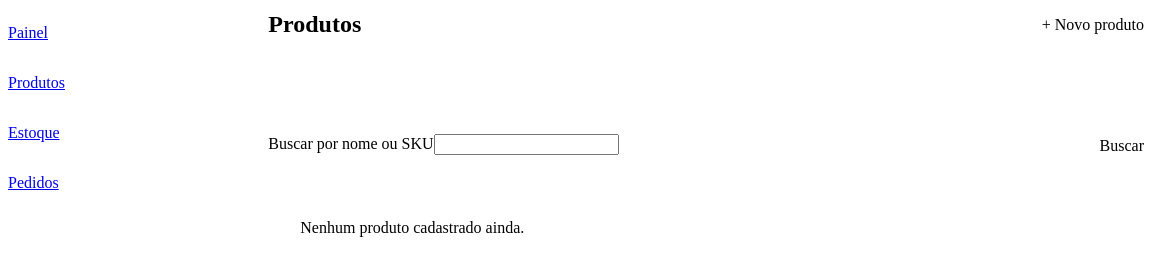
Scenario: Produtos: lista › sem produtos mostra o estado vazio; busca sem resultado cita o texto
The width and height of the screenshot is (1152, 254).
Expected: the text "Nenhum produto cadastrado ainda." is shown, [300,219,524,237]
In the search field labelled "Buscar por nome ou SKU": (526, 144) [434,134,619,155], type "xyz"
Then press Enter
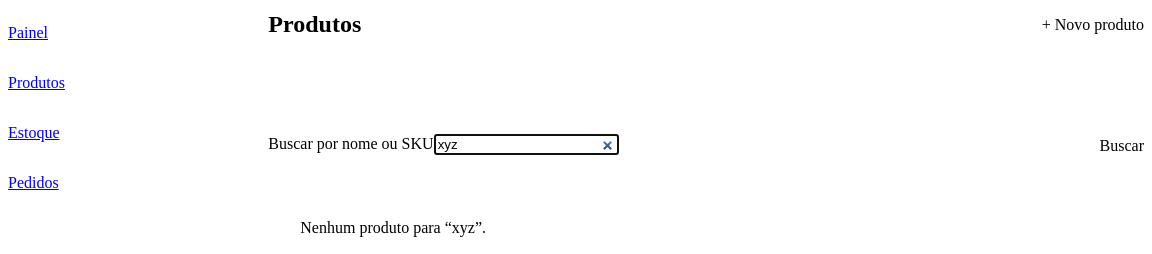
Expected: the text "Nenhum produto para “xyz”." is shown, [300,219,486,237]
